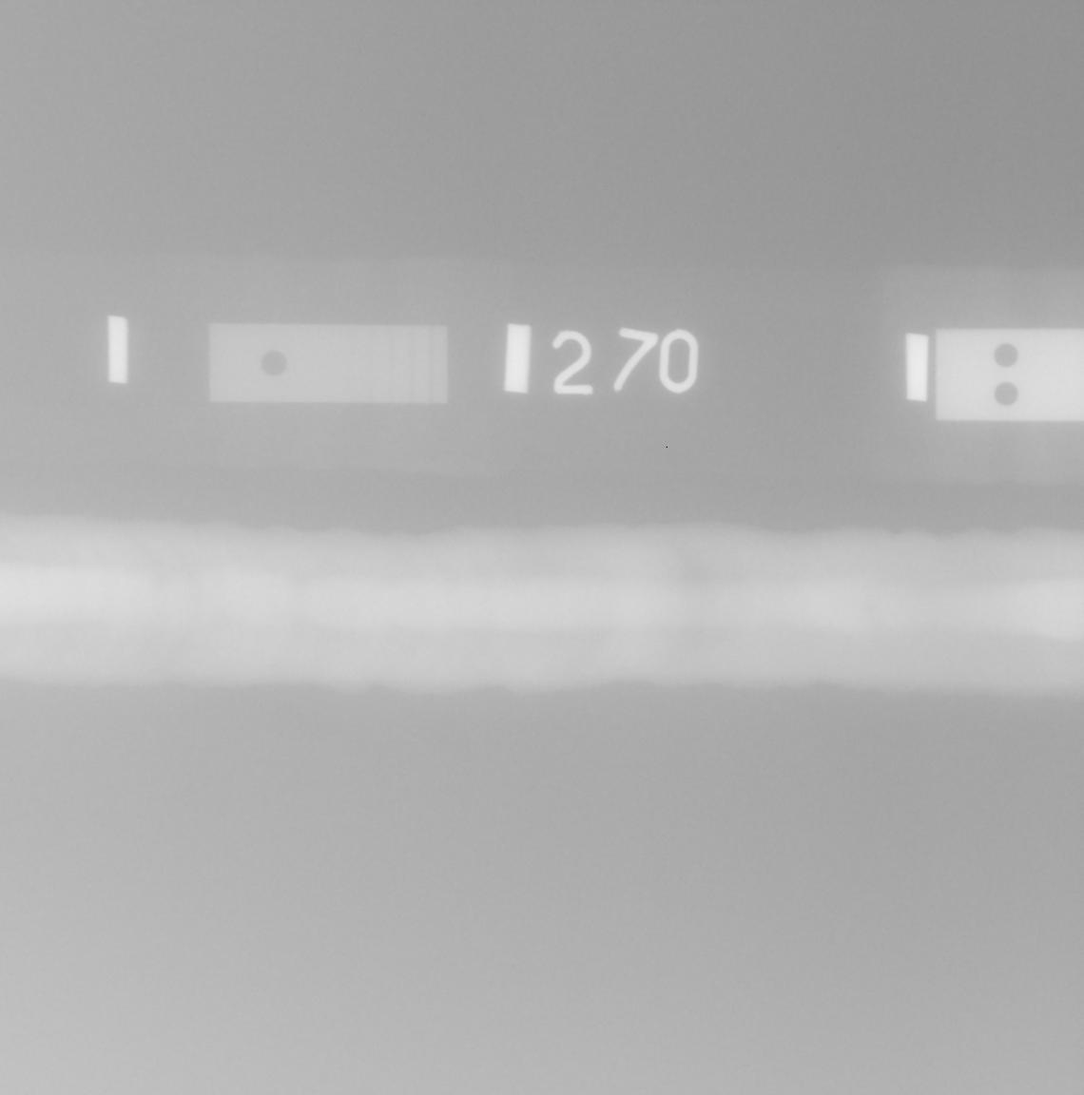Reference Standard 1: (208, 322, 448, 404)
